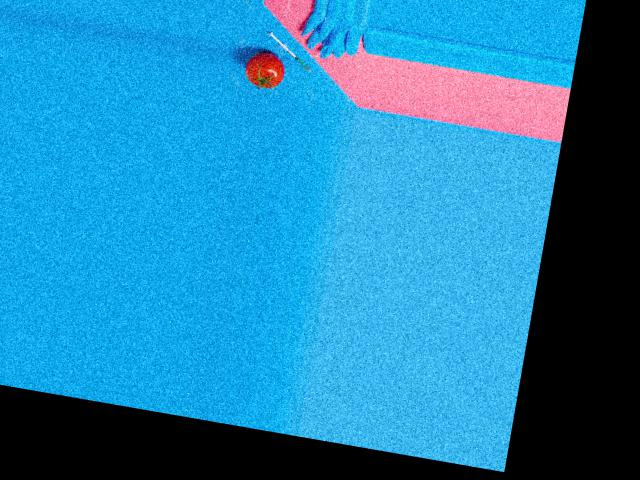tomato: (244, 49, 287, 90)
